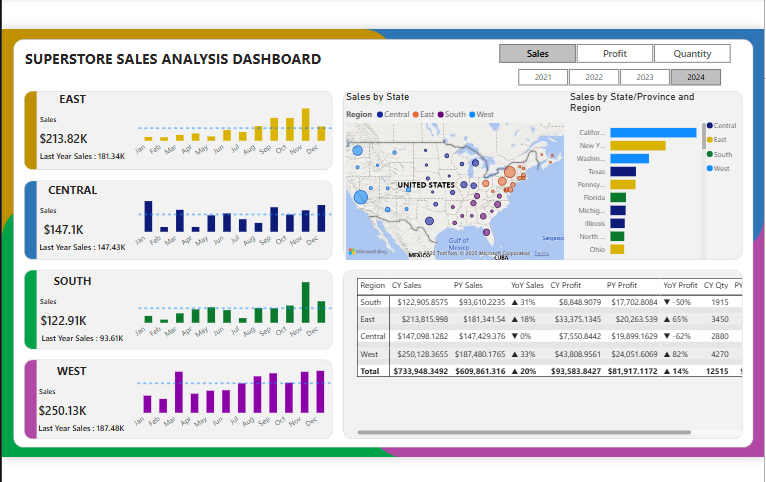

This screenshot's page, from the dashboard's own definition file:
{"tool":"powerbi","page":{"name":"Page 1","canvas":[1280,720],"ordinal":0},"visuals":[{"type":"slicer","fields":{"Values":["Metric .Metric "]},"box":[809.6,19.1,437.9,42.6],"z":0},{"type":"card","fields":{"Values":["Sales Data.Total Sales"]},"box":[47.1,169,111.7,33.8],"z":0,"group":"g5"},{"type":"card","fields":{"Values":["Sales Data.Total Sales"]},"box":[47.1,321.8,111.7,33.8],"z":0,"group":"g2"},{"type":"card","fields":{"Values":["Sales Data.Total Sales"]},"box":[47.1,474.7,111.7,33.8],"z":0,"group":"g3"},{"type":"card","fields":{"Values":["Sales Data.Total Sales"]},"box":[45.6,624.5,111.7,33.8],"z":0,"group":"g4"},{"type":"slicer","fields":{"Values":["Calendar Table.Year"]},"box":[841.6,60.5,389.7,38.6],"z":1000},{"type":"textbox","box":[61.8,99.9,113.1,39.7],"z":1000,"group":"g5"},{"type":"textbox","box":[61.8,252.7,113.1,39.7],"z":1000,"group":"g2"},{"type":"textbox","box":[61.8,405.6,113.1,39.7],"z":1000,"group":"g3"},{"type":"textbox","box":[60.3,555.4,113.1,39.7],"z":1000,"group":"g4"},{"type":"textbox","box":[33.8,29.4,524.6,50],"z":2000},{"type":"card","fields":{"Values":["Sales Data.Dynamic Title"]},"box":[45.6,139.6,64.7,29.4],"z":2000,"group":"g5"},{"type":"card","fields":{"Values":["Sales Data.Dynamic Title"]},"box":[45.6,292.4,64.7,29.4],"z":2000,"group":"g2"},{"type":"card","fields":{"Values":["Sales Data.Dynamic Title"]},"box":[45.6,445.3,64.7,29.4],"z":2000,"group":"g3"},{"type":"card","fields":{"Values":["Sales Data.Dynamic Title"]},"box":[44.1,595.1,64.7,29.4],"z":2000,"group":"g4"},{"type":"group","id":"g1","title":"Group 1","box":[45.6,99.9,512.8,135.2],"z":3000},{"type":"card","fields":{"Values":["Sales Data.PY KPI Sales"]},"box":[55.9,202.8,158.7,29.4],"z":3000,"group":"g5"},{"type":"card","fields":{"Values":["Sales Data.PY KPI Sales"]},"box":[55.9,355.6,158.7,29.4],"z":3000,"group":"g2"},{"type":"card","fields":{"Values":["Sales Data.PY KPI Sales"]},"box":[55.9,508.5,158.7,29.4],"z":3000,"group":"g3"},{"type":"card","fields":{"Values":["Sales Data.PY KPI Sales"]},"box":[54.4,658.3,158.7,29.4],"z":3000,"group":"g4"},{"type":"clusteredColumnChart","fields":{"Category":["Calendar Table.Month"],"Y":["Sum(Sales Data.Sales)"]},"box":[214.6,102.8,343.8,132.2],"z":4000,"group":"g5"},{"type":"group","id":"g2","title":"Group 2","box":[45.6,252.7,512.8,135.2],"z":4000},{"type":"clusteredColumnChart","fields":{"Category":["Calendar Table.Month"],"Y":["Sum(Sales Data.Sales)"]},"box":[214.6,255.6,343.8,132.2],"z":4000,"group":"g2"},{"type":"clusteredColumnChart","fields":{"Category":["Calendar Table.Month"],"Y":["Sum(Sales Data.Sales)"]},"box":[214.6,408.5,343.8,132.2],"z":4000,"group":"g3"},{"type":"clusteredColumnChart","fields":{"Category":["Calendar Table.Month"],"Y":["Sum(Sales Data.Sales)"]},"box":[213.1,558.3,343.8,132.2],"z":4000,"group":"g4"},{"type":"group","id":"g3","title":"Group 2","box":[45.6,405.6,512.8,135.2],"z":5000},{"type":"group","id":"g4","title":"Group 2","box":[44.1,555.4,512.8,135.2],"z":6000},{"type":"group","id":"g5","title":"Group 2","box":[45.6,99.9,512.8,135.2],"z":6001,"group":"g1"},{"type":"map","title":"Sales by State","fields":{"Size":["Sales Data.Total Sales"],"Category":["Sales Data.State/Province"],"Series":["Sales Data.Region"]},"box":[572.8,102.5,376.3,290.6],"z":7000},{"type":"barChart","fields":{"Y":["Sales Data.Total Sales"],"Category":["Sales Data.State/Province"],"Series":["Sales Data.Region"]},"box":[949.1,102.5,299,290.6],"z":8000},{"type":"pivotTable","fields":{"Rows":["Sales Data.Region"],"Values":["Sales Data.CY Sales","Sales Data.PY Sales","Sales Data.YoY Sales","Sales Data.CY Profit","Sales Data.PY Profit","Sales Data.YoY Profit","Sales Data.CY Qty","Sales Data.PY Qty","Sales Data.YoY Qty"]},"box":[591.3,413.2,656.8,273.8],"z":9000}]}

Visuals, with their boxes on the page's 1280x720 design canvas (x1, y1, x2, y2). These are canvas units, not pixel positions in the 766x482 screenshot, which may show the page scaled, cropped or inside an application window:
slicer - Metric .Metric : 810, 19, 1248, 62
card - Sales Data.Total Sales: 47, 169, 159, 203
card - Sales Data.Total Sales: 47, 322, 159, 356
card - Sales Data.Total Sales: 47, 475, 159, 508
card - Sales Data.Total Sales: 46, 624, 157, 658
slicer - Calendar Table.Year: 842, 60, 1231, 99
textbox: 62, 100, 175, 140
textbox: 62, 253, 175, 292
textbox: 62, 406, 175, 445
textbox: 60, 555, 173, 595
textbox: 34, 29, 558, 79
card - Sales Data.Dynamic Title: 46, 140, 110, 169
card - Sales Data.Dynamic Title: 46, 292, 110, 322
card - Sales Data.Dynamic Title: 46, 445, 110, 475
card - Sales Data.Dynamic Title: 44, 595, 109, 624
"Group 1" group: 46, 100, 558, 235
card - Sales Data.PY KPI Sales: 56, 203, 215, 232
card - Sales Data.PY KPI Sales: 56, 356, 215, 385
card - Sales Data.PY KPI Sales: 56, 508, 215, 538
card - Sales Data.PY KPI Sales: 54, 658, 213, 688
clusteredColumnChart - Calendar Table.Month x Sum(Sales Data.Sales): 215, 103, 558, 235
"Group 2" group: 46, 253, 558, 388
clusteredColumnChart - Calendar Table.Month x Sum(Sales Data.Sales): 215, 256, 558, 388
clusteredColumnChart - Calendar Table.Month x Sum(Sales Data.Sales): 215, 408, 558, 541
clusteredColumnChart - Calendar Table.Month x Sum(Sales Data.Sales): 213, 558, 557, 690
"Group 2" group: 46, 406, 558, 541
"Group 2" group: 44, 555, 557, 691
"Group 2" group: 46, 100, 558, 235
"Sales by State" map: 573, 102, 949, 393
barChart - Sales Data.Total Sales x Sales Data.State/Province: 949, 102, 1248, 393
pivotTable - Sales Data.Region x Sales Data.CY Sales: 591, 413, 1248, 687
